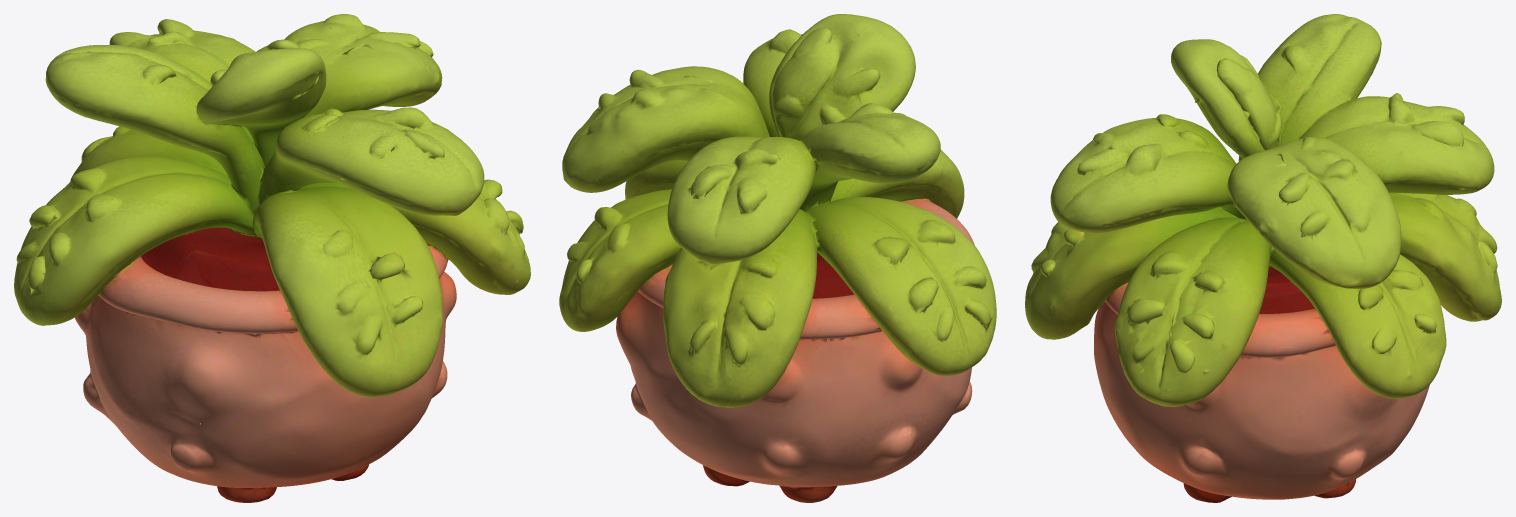
Rendered from env_nest_plant_01.glb.
3 renders of one model, left to right at view 1: azimuth 30°, elevation 25°; view 2: azimuth 150°, elevation 25°; view 3: azimuth 270°, elevation 25°, orthographic. The views are drawn at different scales.
Visible parts, largest first — view 1: tripo_node_afb288bd-e0eb-4157-a3b0-7490964e92fe; view 2: tripo_node_afb288bd-e0eb-4157-a3b0-7490964e92fe; view 3: tripo_node_afb288bd-e0eb-4157-a3b0-7490964e92fe.
Part boxes in pixels (x1,y1,x2,y2): tripo_node_afb288bd-e0eb-4157-a3b0-7490964e92fe: (14,14,530,502); tripo_node_afb288bd-e0eb-4157-a3b0-7490964e92fe: (559,14,996,502); tripo_node_afb288bd-e0eb-4157-a3b0-7490964e92fe: (1025,14,1501,502).
Bounding box in the file's own units: 1.22 × 1.2 × 1.25.
Materials: 1 (1 with a texture image).
